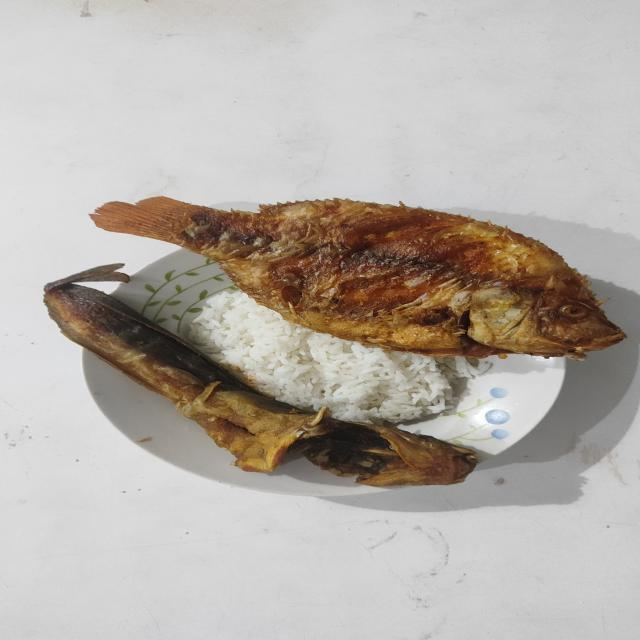ikan_mujair: (90, 197, 626, 359)
nasi_putih: (188, 288, 484, 424)
